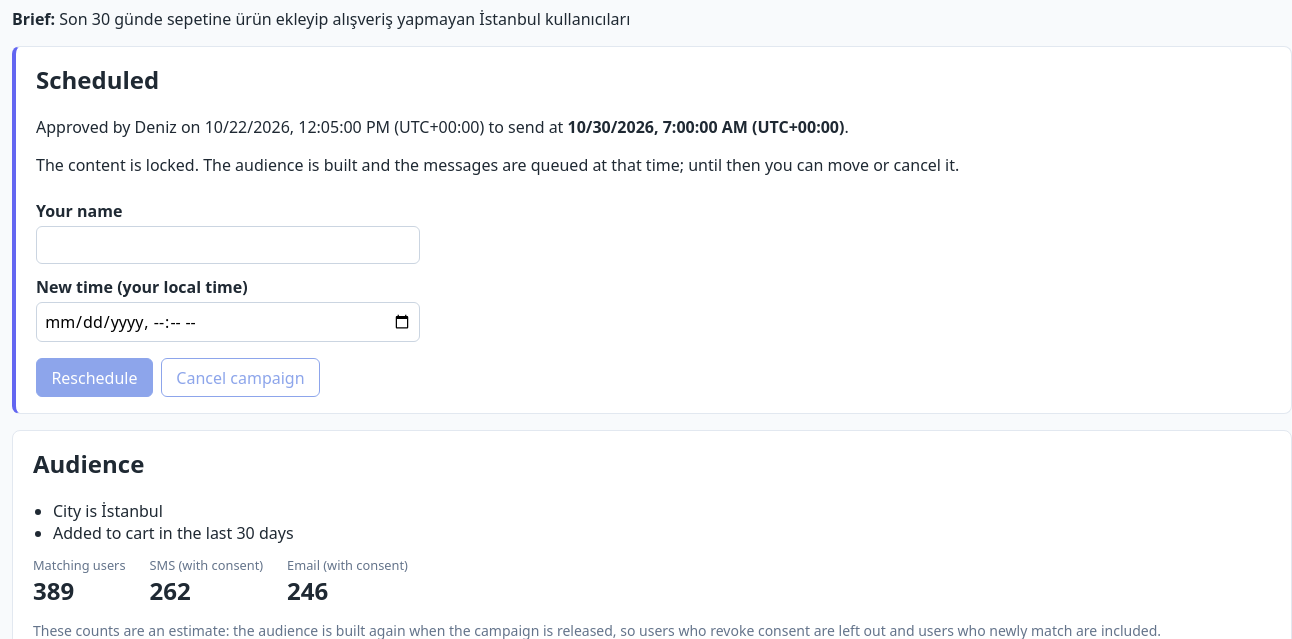
Test: CampaignReviewView scheduling › cancels a scheduled campaign back to editable drafts
The width and height of the screenshot is (1292, 639).
Check: the button with test id "cancel-schedule" is disabled, box 161,358 -> 320,397
In the field labelled "Your name": (228, 245) 36,226 -> 420,264, type "Ece"
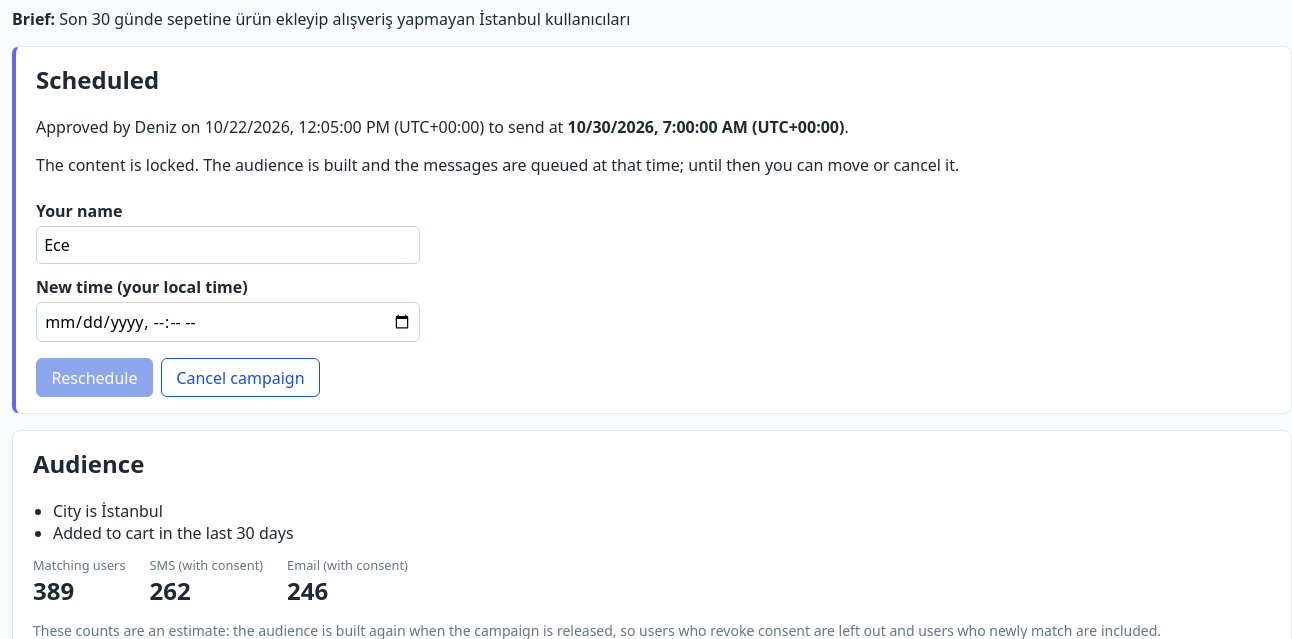
Click the button with test id "cancel-schedule": (240, 378) 161,358 -> 320,397
(page scrolled)
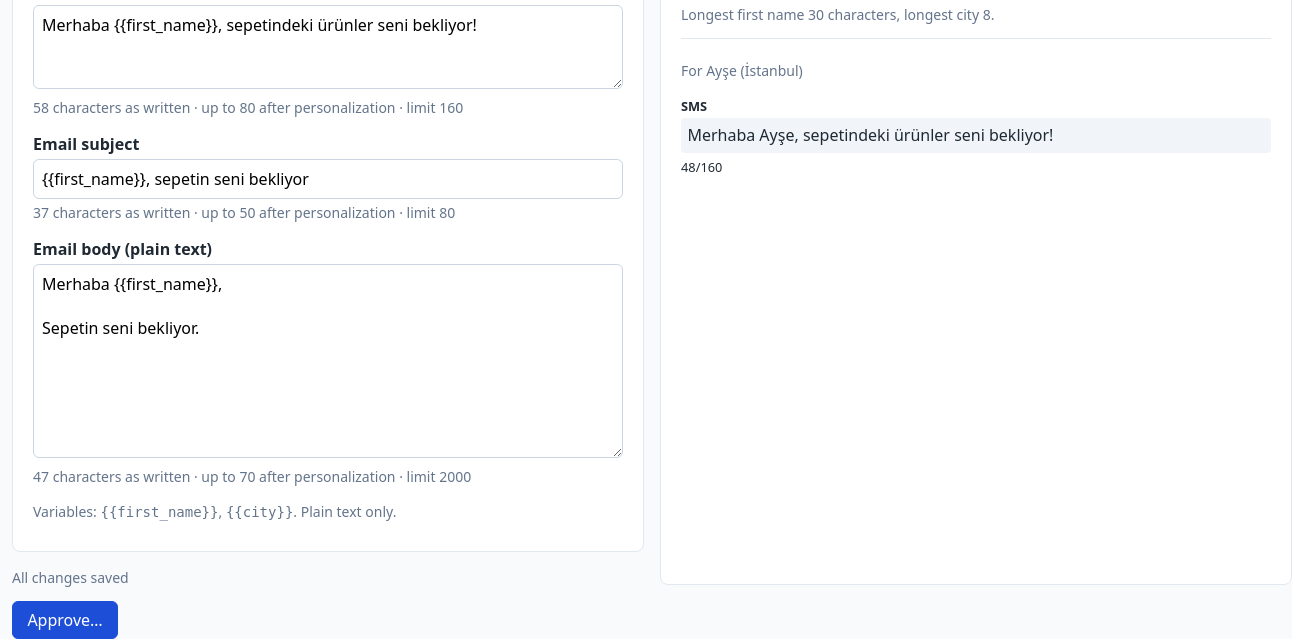
Check: the button with test id "approve" is shown, box 12,601 -> 118,638
